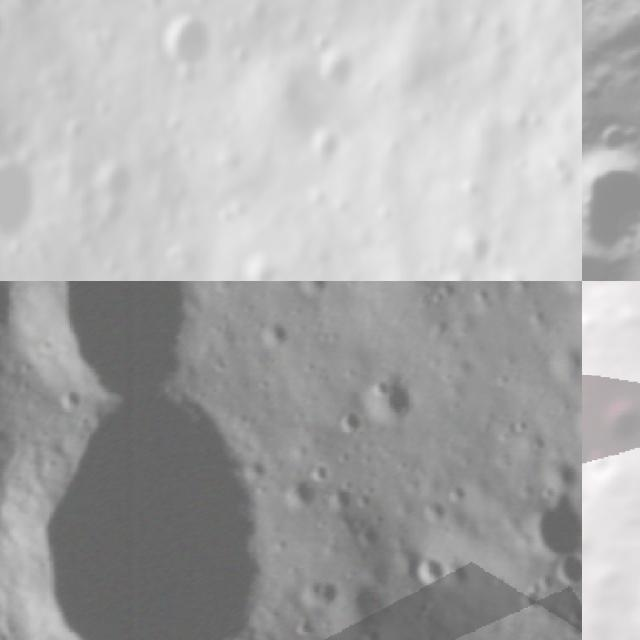crater: (0, 390, 283, 640), (14, 281, 220, 397), (582, 113, 640, 278), (510, 480, 582, 569), (154, 10, 226, 80), (358, 360, 421, 433), (0, 151, 43, 251), (582, 220, 640, 281), (593, 387, 640, 451), (92, 153, 139, 202), (408, 542, 454, 592), (582, 438, 626, 487), (296, 571, 348, 611), (318, 46, 364, 90), (306, 127, 348, 174), (249, 314, 298, 354), (464, 227, 496, 281), (544, 545, 582, 590), (324, 476, 361, 517), (0, 281, 26, 338), (515, 576, 552, 615), (548, 339, 582, 380), (240, 251, 286, 281), (284, 472, 320, 507), (329, 402, 370, 432), (302, 452, 337, 484), (231, 39, 260, 71), (0, 3, 16, 57), (291, 281, 332, 302), (563, 598, 582, 638), (437, 267, 480, 281)
